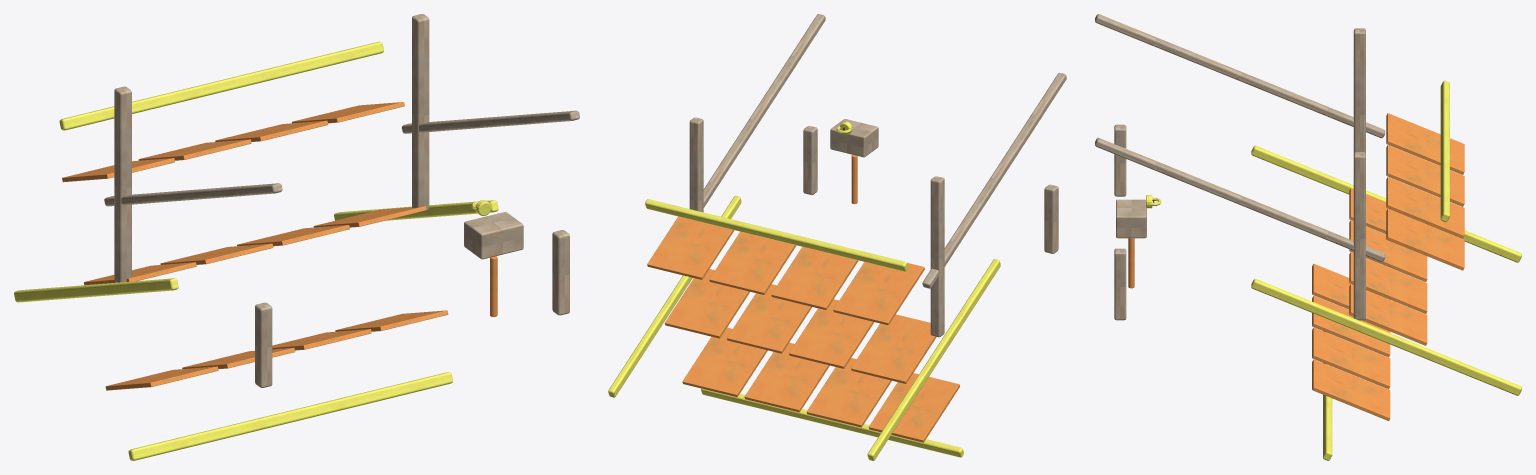
File: ff-solar.glb
3 renders of one model, left to right at view 1: azimuth 30°, elevation 25°; view 2: azimuth 150°, elevation 25°; view 3: azimuth 270°, elevation 25°, orthographic. The views are drawn at different scales.
Visible parts, largest first — view 1: Cell, Bolt.014, Post.003, Rail.001; view 2: Cell, Bolt.014, Rail.001, Post.003; view 3: Cell, Bolt.014, Rail.001, Post.003.
Boxes of the visible parts, <box> form: Cell: <box>62,102,497,390</box>; Bolt.014: <box>14,41,498,460</box>; Post.003: <box>114,14,569,387</box>; Rail.001: <box>104,110,579,259</box>; Cell: <box>647,154,959,442</box>; Bolt.014: <box>608,121,1000,460</box>; Rail.001: <box>703,14,1066,288</box>; Post.003: <box>689,117,1058,337</box>; Cell: <box>1128,113,1464,420</box>; Bolt.014: <box>1146,80,1521,460</box>; Rail.001: <box>1095,14,1385,261</box>; Post.003: <box>1114,28,1365,320</box>.
Bounding box in the file's own units: 2.91 × 3.16 × 3.85.
Materials: 8 (7 with a texture image).
